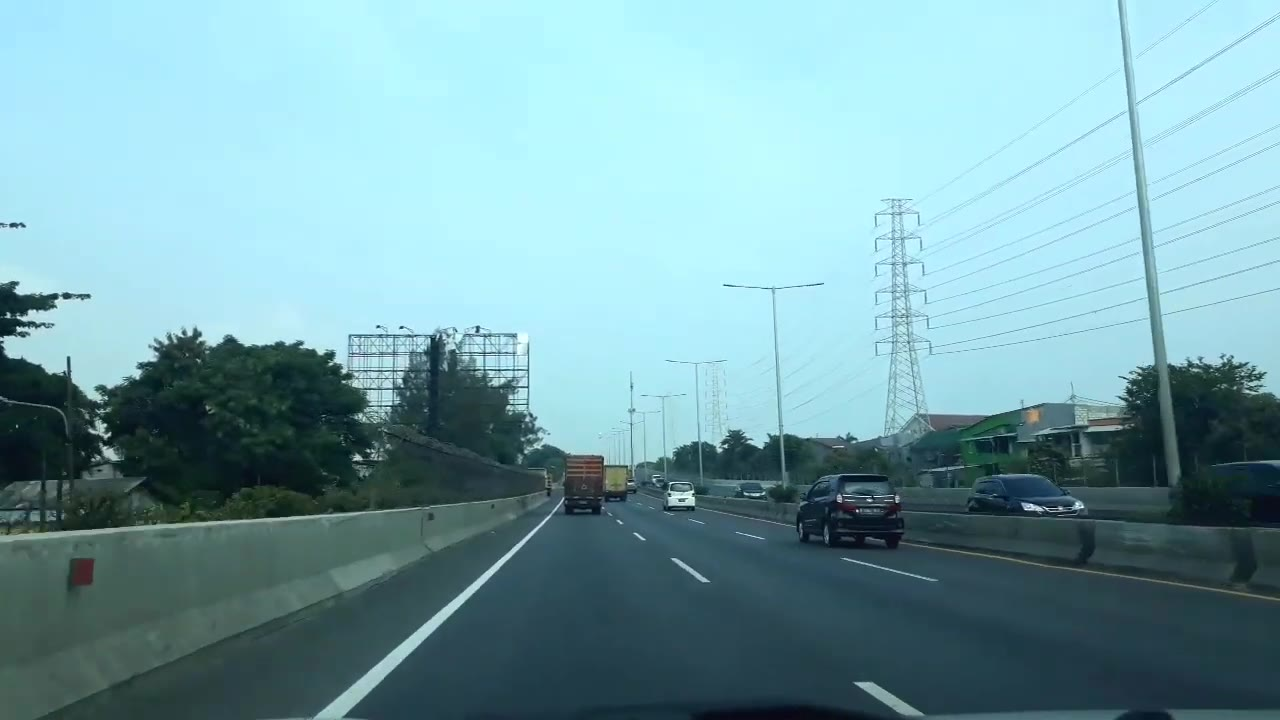plate_positive: (860, 508, 881, 515), (578, 500, 587, 504), (678, 499, 686, 502)
